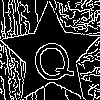Q: (25, 29, 77, 88)
